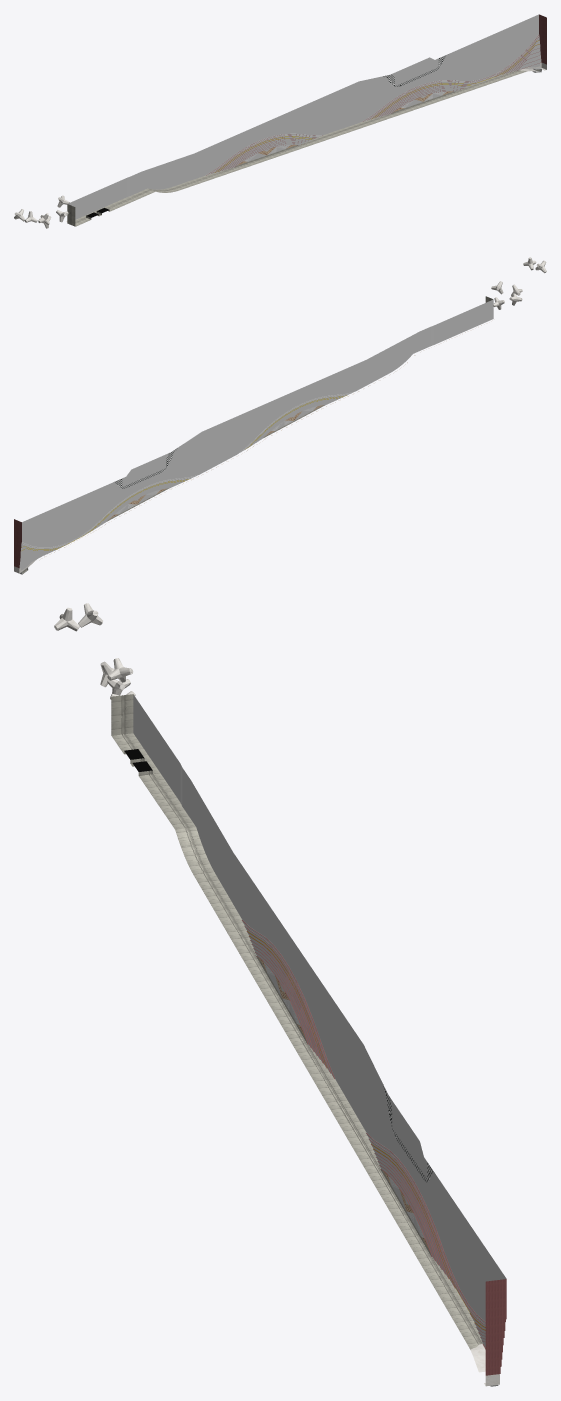
The model's file is 우측로우 - 복사본.fbx.
3 renders of one model, top to bottom at view 1: azimuth 30°, elevation 25°; view 2: azimuth 210°, elevation 25°; view 3: azimuth 270°, elevation 25°, orthographic. The views are drawn at different scales.
Parts seen in each view (by area): view 1: Group_158479, Group_158495, Group_158483; view 2: Group_158479; view 3: Group_158479.
Part boxes in pixels (x1,y1,x2,y2): Group_158479: (67,14,546,226); Group_158495: (237,144,296,165); Group_158483: (394,91,452,111); Group_158479: (14,296,493,573); Group_158479: (111,694,506,1386).
Size of the model in its own units: 11049 by 1480 by 3428.
